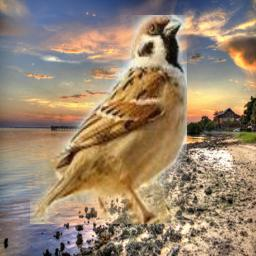Sparrow: (30, 15, 187, 224)
